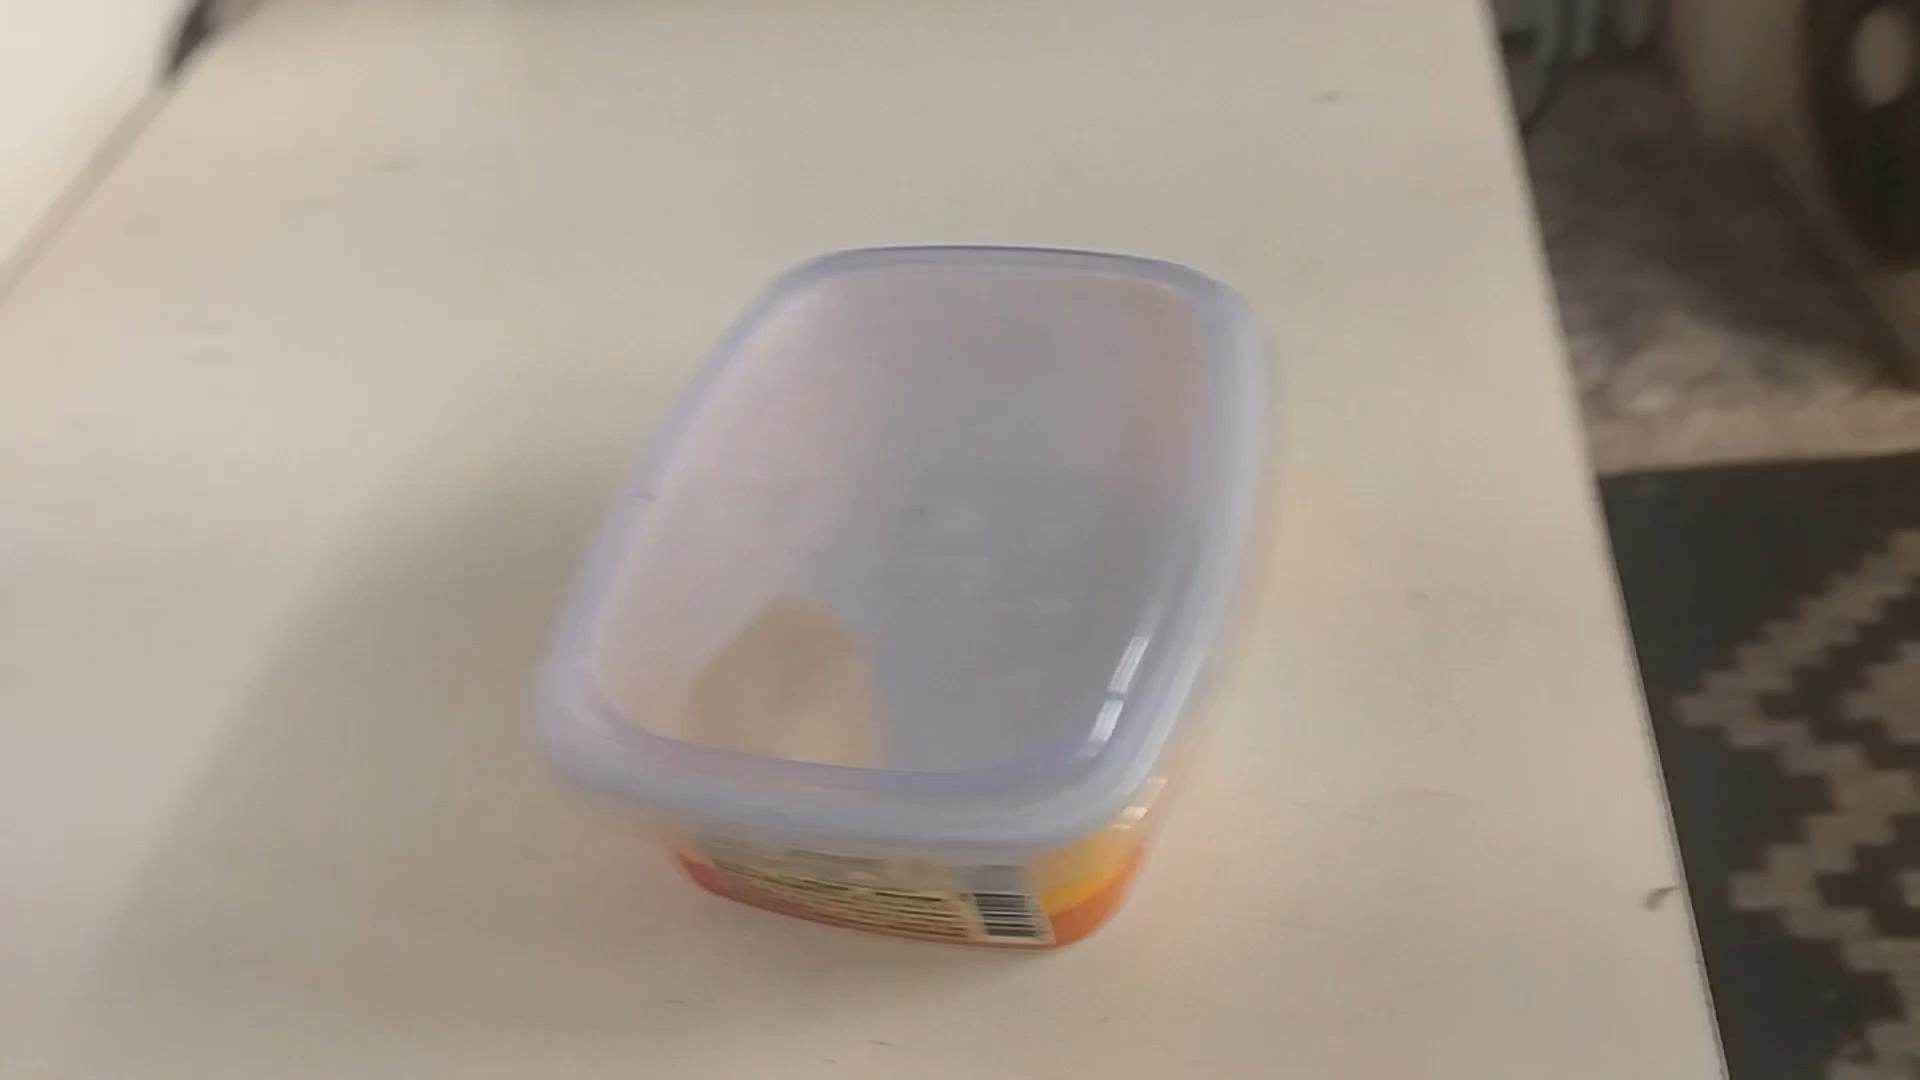butter: (531, 247, 1265, 957)
